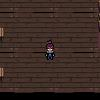Victim: (44, 39, 56, 61)
